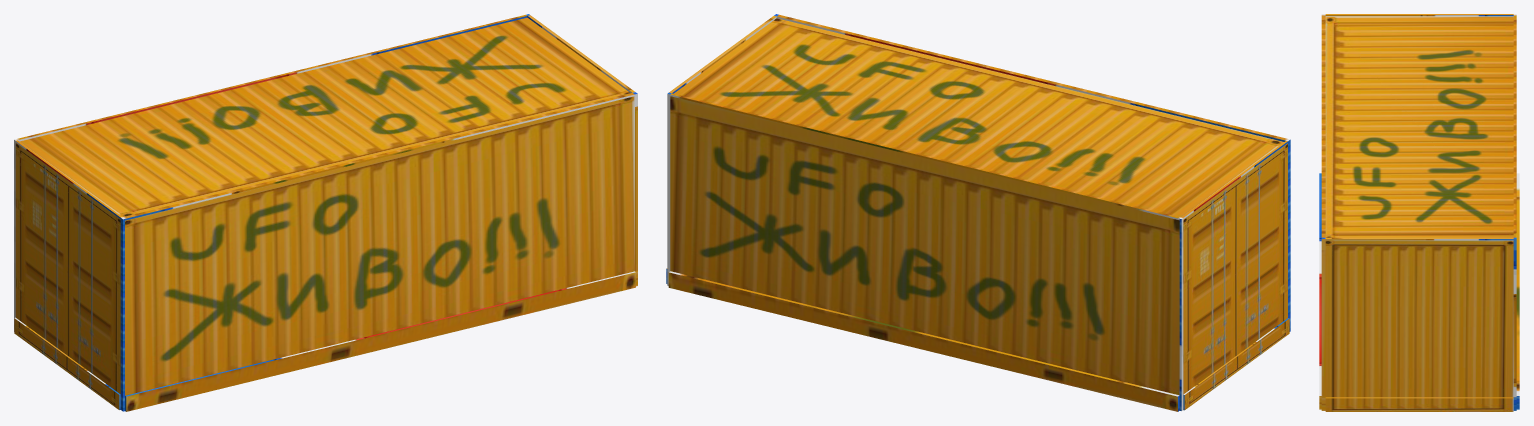
The model's file is konteyner011.fbx.
3 views of the same model, side by side, from view 1: azimuth 30°, elevation 25°; view 2: azimuth 150°, elevation 25°; view 3: azimuth 270°, elevation 25° (orthographic). The views are drawn at different scales.
Parts seen in each view (by area): view 1: Cube; view 2: Cube; view 3: Cube.
Boxes of the visible parts, left/top/right/bottom form: Cube: left=14, top=14, right=637, bottom=411; Cube: left=666, top=14, right=1290, bottom=411; Cube: left=1319, top=14, right=1519, bottom=411.
Bounding box in the file's own units: 1209 × 428 × 452.
1 material, 1 textured.
